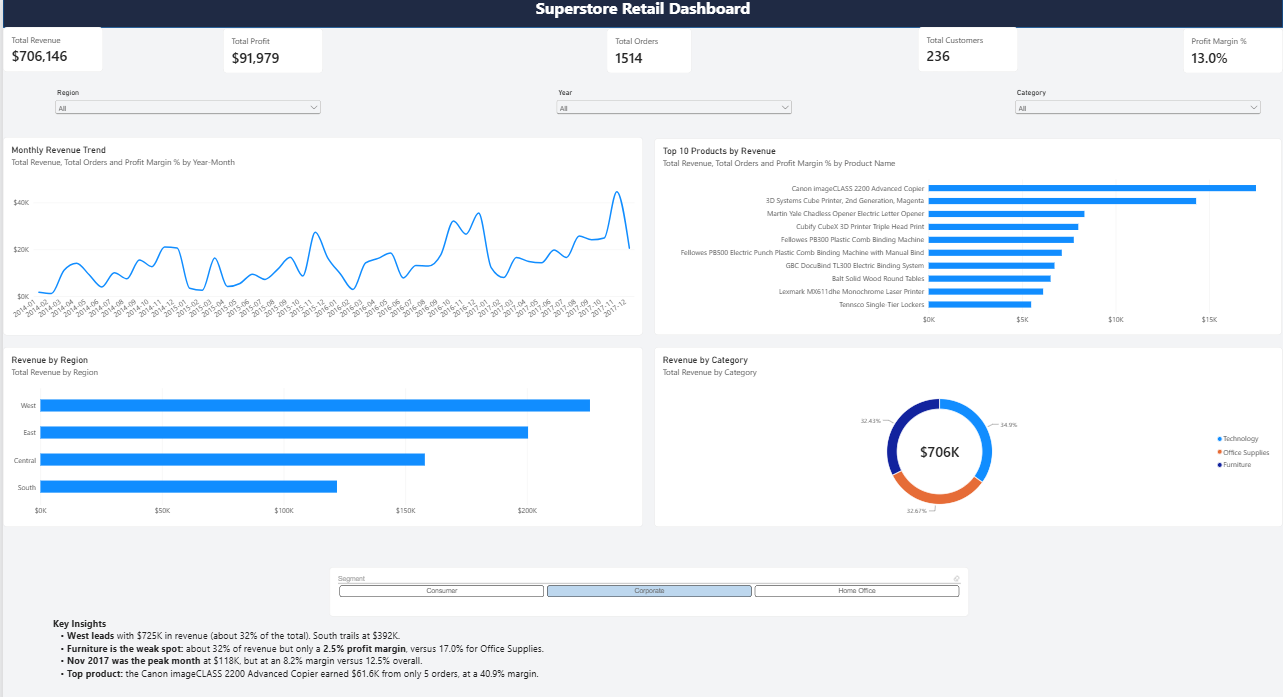

Layout of this report page (visuals, bound fields, positions):
{"tool":"powerbi","page":{"name":"Overview","canvas":[2560,1440],"ordinal":0},"visuals":[{"type":"shape","box":[0,0,2560,61.5],"z":0},{"type":"textbox","box":[0,0,2560,69.7],"z":1000},{"type":"cardVisual","fields":{"Data":["Measures (2).Total Profit"]},"box":[439.1,62.7,200,90],"z":2000},{"type":"cardVisual","fields":{"Data":["Measures (2).Total Revenue"]},"box":[0,60.3,200,90],"z":3000},{"type":"cardVisual","fields":{"Data":["Measures (2).Total Customers"]},"box":[1829,60.3,200,90],"z":4000},{"type":"cardVisual","fields":{"Data":["Measures (2).Total Orders"]},"box":[1206.4,62.7,170,90],"z":5000},{"type":"cardVisual","fields":{"Data":["Measures (2).Profit Margin %"]},"box":[2359,61.5,200,90],"z":6000},{"type":"lineChart","title":"Monthly Revenue Trend","fields":{"Category":["DateTable.Year-Month"],"Y":["Measures (2).Total Revenue"]},"box":[0,280,1280,396.7],"z":7000},{"type":"clusteredBarChart","title":"Top 10 Products by Revenue","fields":{"Category":["Sales.Product Name"],"Y":["Measures (2).Total Revenue"]},"box":[1303.3,283.3,1255.4,393.8],"z":8000},{"type":"clusteredBarChart","title":"Revenue by Region","fields":{"Category":["Sales.Region"],"Y":["Measures (2).Total Revenue"]},"box":[0,700,1280,360],"z":9000},{"type":"donutChart","title":"Revenue by Category","fields":{"Category":["Sales.Category"],"Y":["Measures (2).Total Revenue"]},"box":[1303.3,700,1256.7,360],"z":10000},{"type":"slicer","fields":{"Values":["Sales.Region"]},"box":[100,183.3,540,83.3],"z":11000},{"type":"slicer","fields":{"Values":["Sales.Category"]},"box":[2020,183.3,500,53.3],"z":12000},{"type":"slicer","fields":{"Values":["DateTable.Year"]},"box":[1103.3,183.3,480,106.7],"z":13000},{"type":"ChicletSlicer1448559807354","fields":{"Category":["Sales.Segment"]},"box":[652.6,1140,1279,99.6],"z":14000},{"type":"textbox","box":[100,1240,1275,200],"z":14002}]}

Visuals, with their boxes on the page's 2560x1440 design canvas (x1, y1, x2, y2). These are canvas units, not pixel positions in the 1283x697 screenshot, which may show the page scaled, cropped or inside an application window:
shape: left=0, top=0, right=2560, bottom=62
textbox: left=0, top=0, right=2560, bottom=70
cardVisual - Measures (2).Total Profit: left=439, top=63, right=639, bottom=153
cardVisual - Measures (2).Total Revenue: left=0, top=60, right=200, bottom=150
cardVisual - Measures (2).Total Customers: left=1829, top=60, right=2029, bottom=150
cardVisual - Measures (2).Total Orders: left=1206, top=63, right=1376, bottom=153
cardVisual - Measures (2).Profit Margin %: left=2359, top=62, right=2559, bottom=152
"Monthly Revenue Trend" lineChart: left=0, top=280, right=1280, bottom=677
"Top 10 Products by Revenue" clusteredBarChart: left=1303, top=283, right=2559, bottom=677
"Revenue by Region" clusteredBarChart: left=0, top=700, right=1280, bottom=1060
"Revenue by Category" donutChart: left=1303, top=700, right=2560, bottom=1060
slicer - Sales.Region: left=100, top=183, right=640, bottom=267
slicer - Sales.Category: left=2020, top=183, right=2520, bottom=237
slicer - DateTable.Year: left=1103, top=183, right=1583, bottom=290
ChicletSlicer1448559807354 - Sales.Segment: left=653, top=1140, right=1932, bottom=1240
textbox: left=100, top=1240, right=1375, bottom=1440
